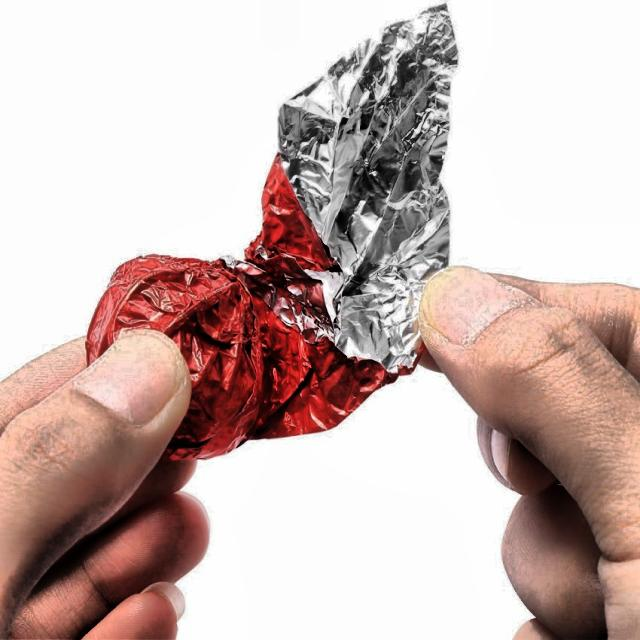Plastic: (51, 0, 472, 468)
